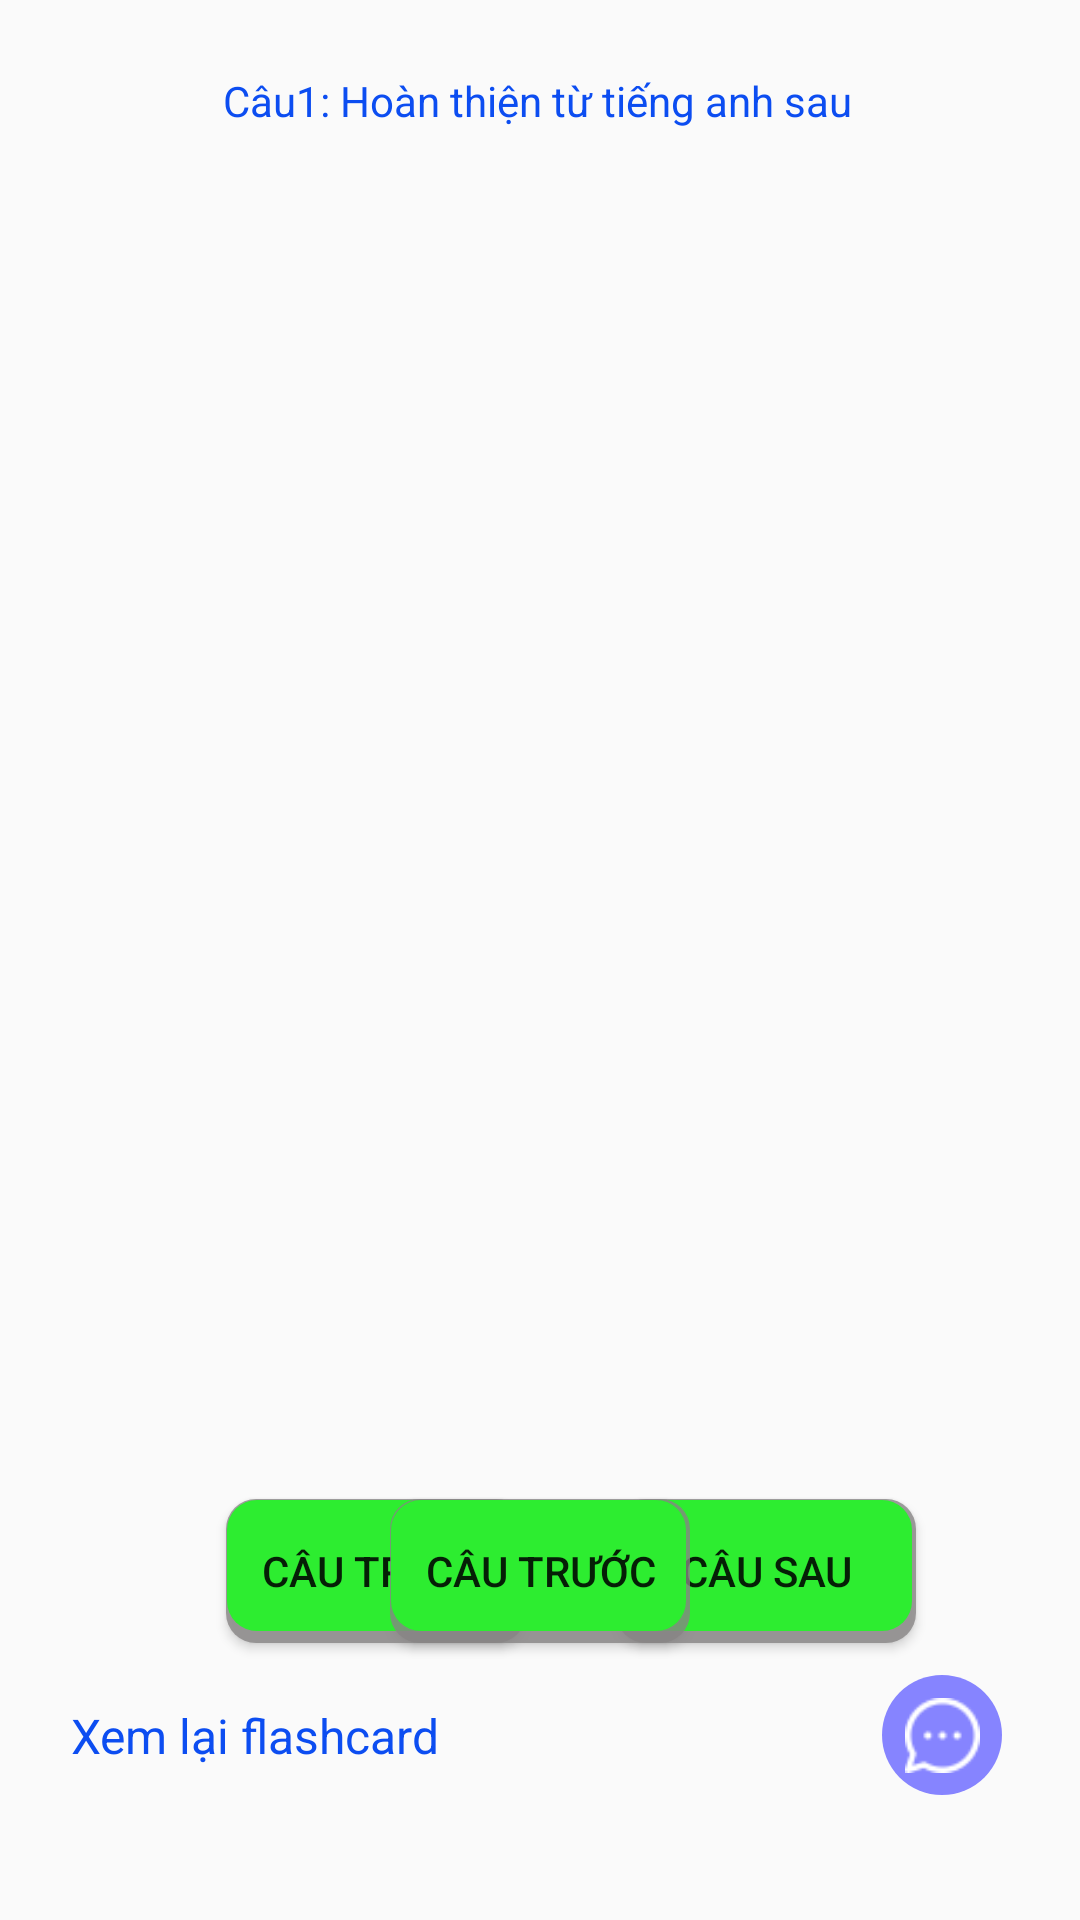

Icon bounding boxes for this 1080px x 1920px phone screenshot, format (x1, y1, x2, y2):
messenger: (905, 1698, 980, 1773)
